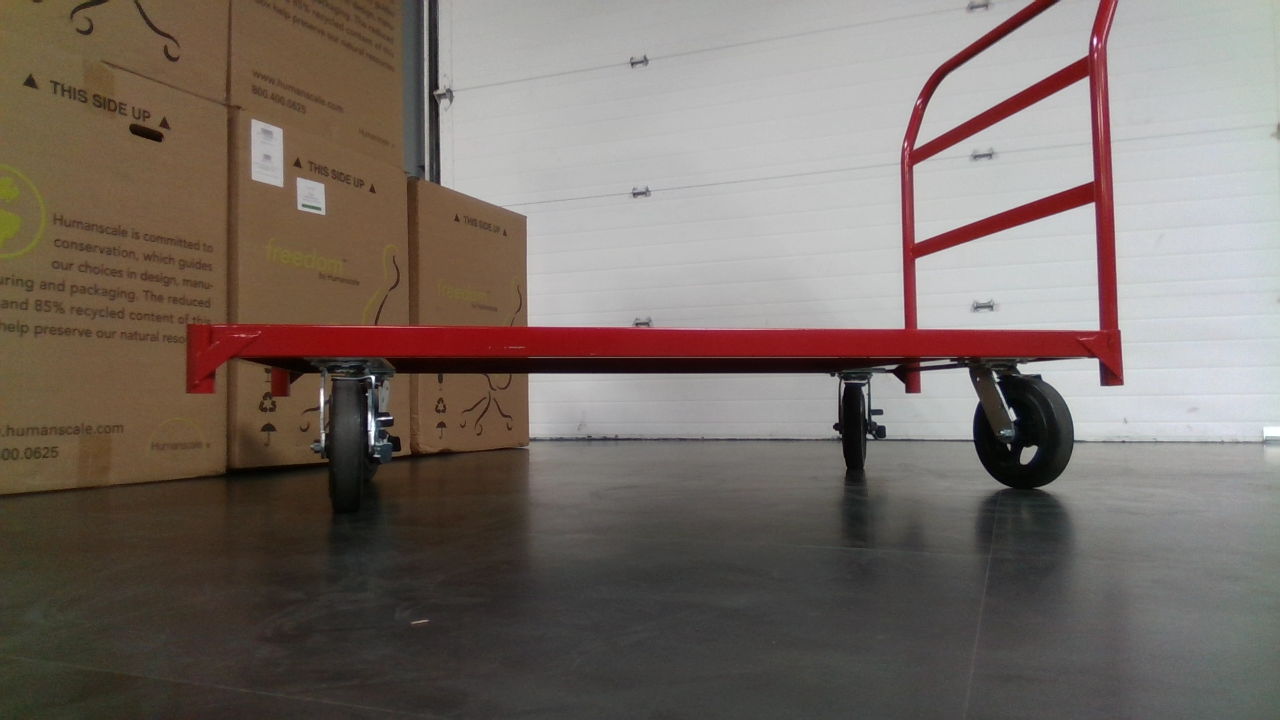Dolly: (159, 0, 1133, 534)
Wheel: (972, 369, 1081, 498), (297, 383, 382, 531), (836, 377, 872, 479)
